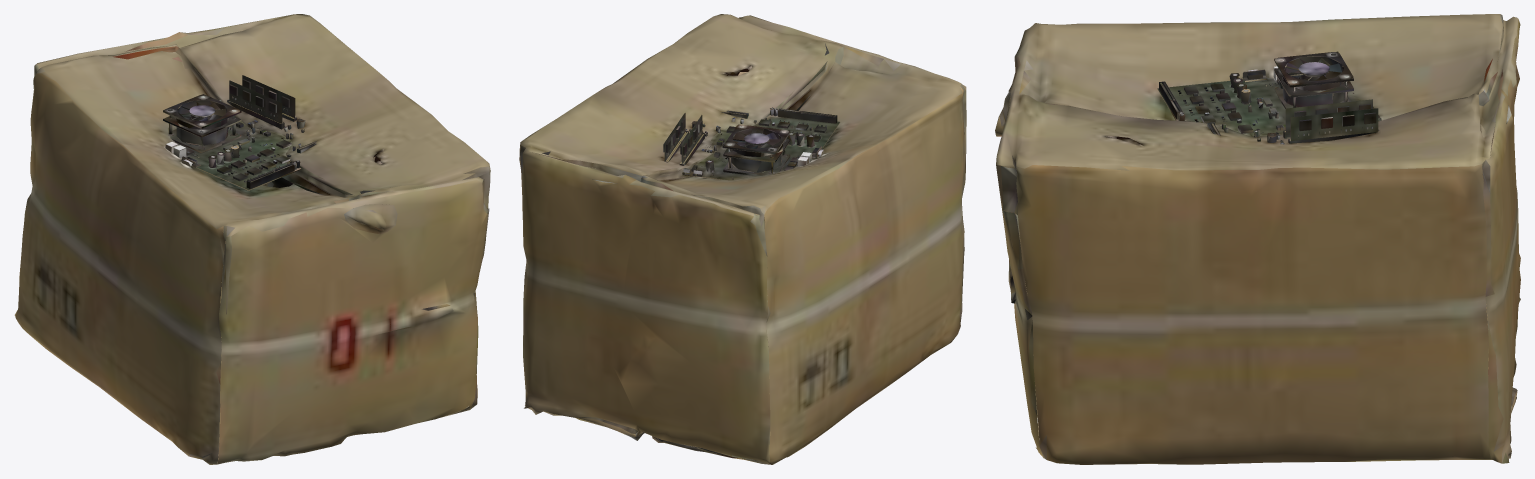
The model's file is electronics_box.glb.
3 views of the same model, side by side, from view 1: azimuth 30°, elevation 25°; view 2: azimuth 150°, elevation 25°; view 3: azimuth 270°, elevation 25° (orthographic). The views are drawn at different scales.
Parts seen in each view (by area): view 1: electronics_box; view 2: electronics_box; view 3: electronics_box.
Part boxes in pixels (bbox=[...]): electronics_box: bbox=[14, 14, 490, 464]; electronics_box: bbox=[519, 14, 966, 464]; electronics_box: bbox=[995, 14, 1520, 464].
Bounding box in the file's own units: 0.4 × 0.353 × 0.5328.
1 material, 1 textured.
